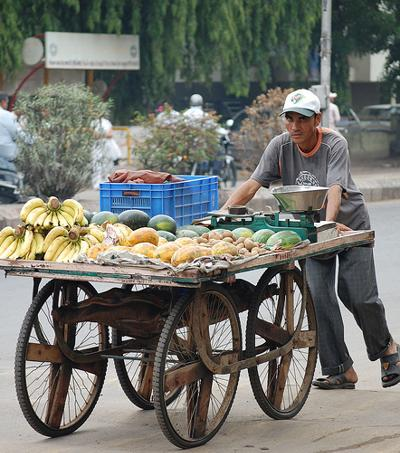person: (217, 90, 400, 389)
